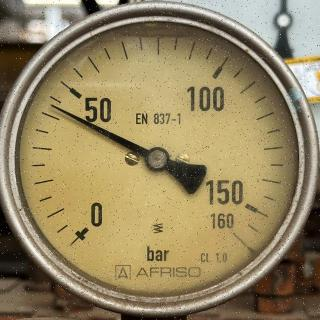gauge: (0, 0, 320, 320), (67, 213, 99, 247), (222, 222, 250, 248), (144, 146, 170, 172), (272, 10, 294, 30), (46, 100, 60, 112)
